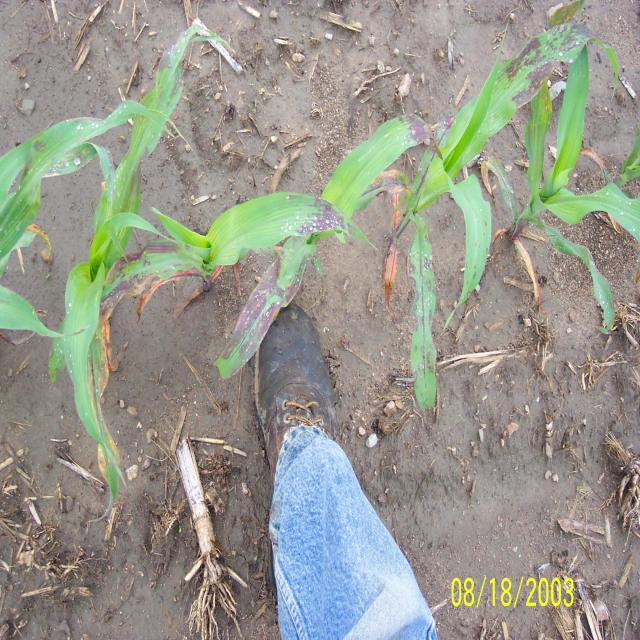blight: (230, 274, 279, 362)
